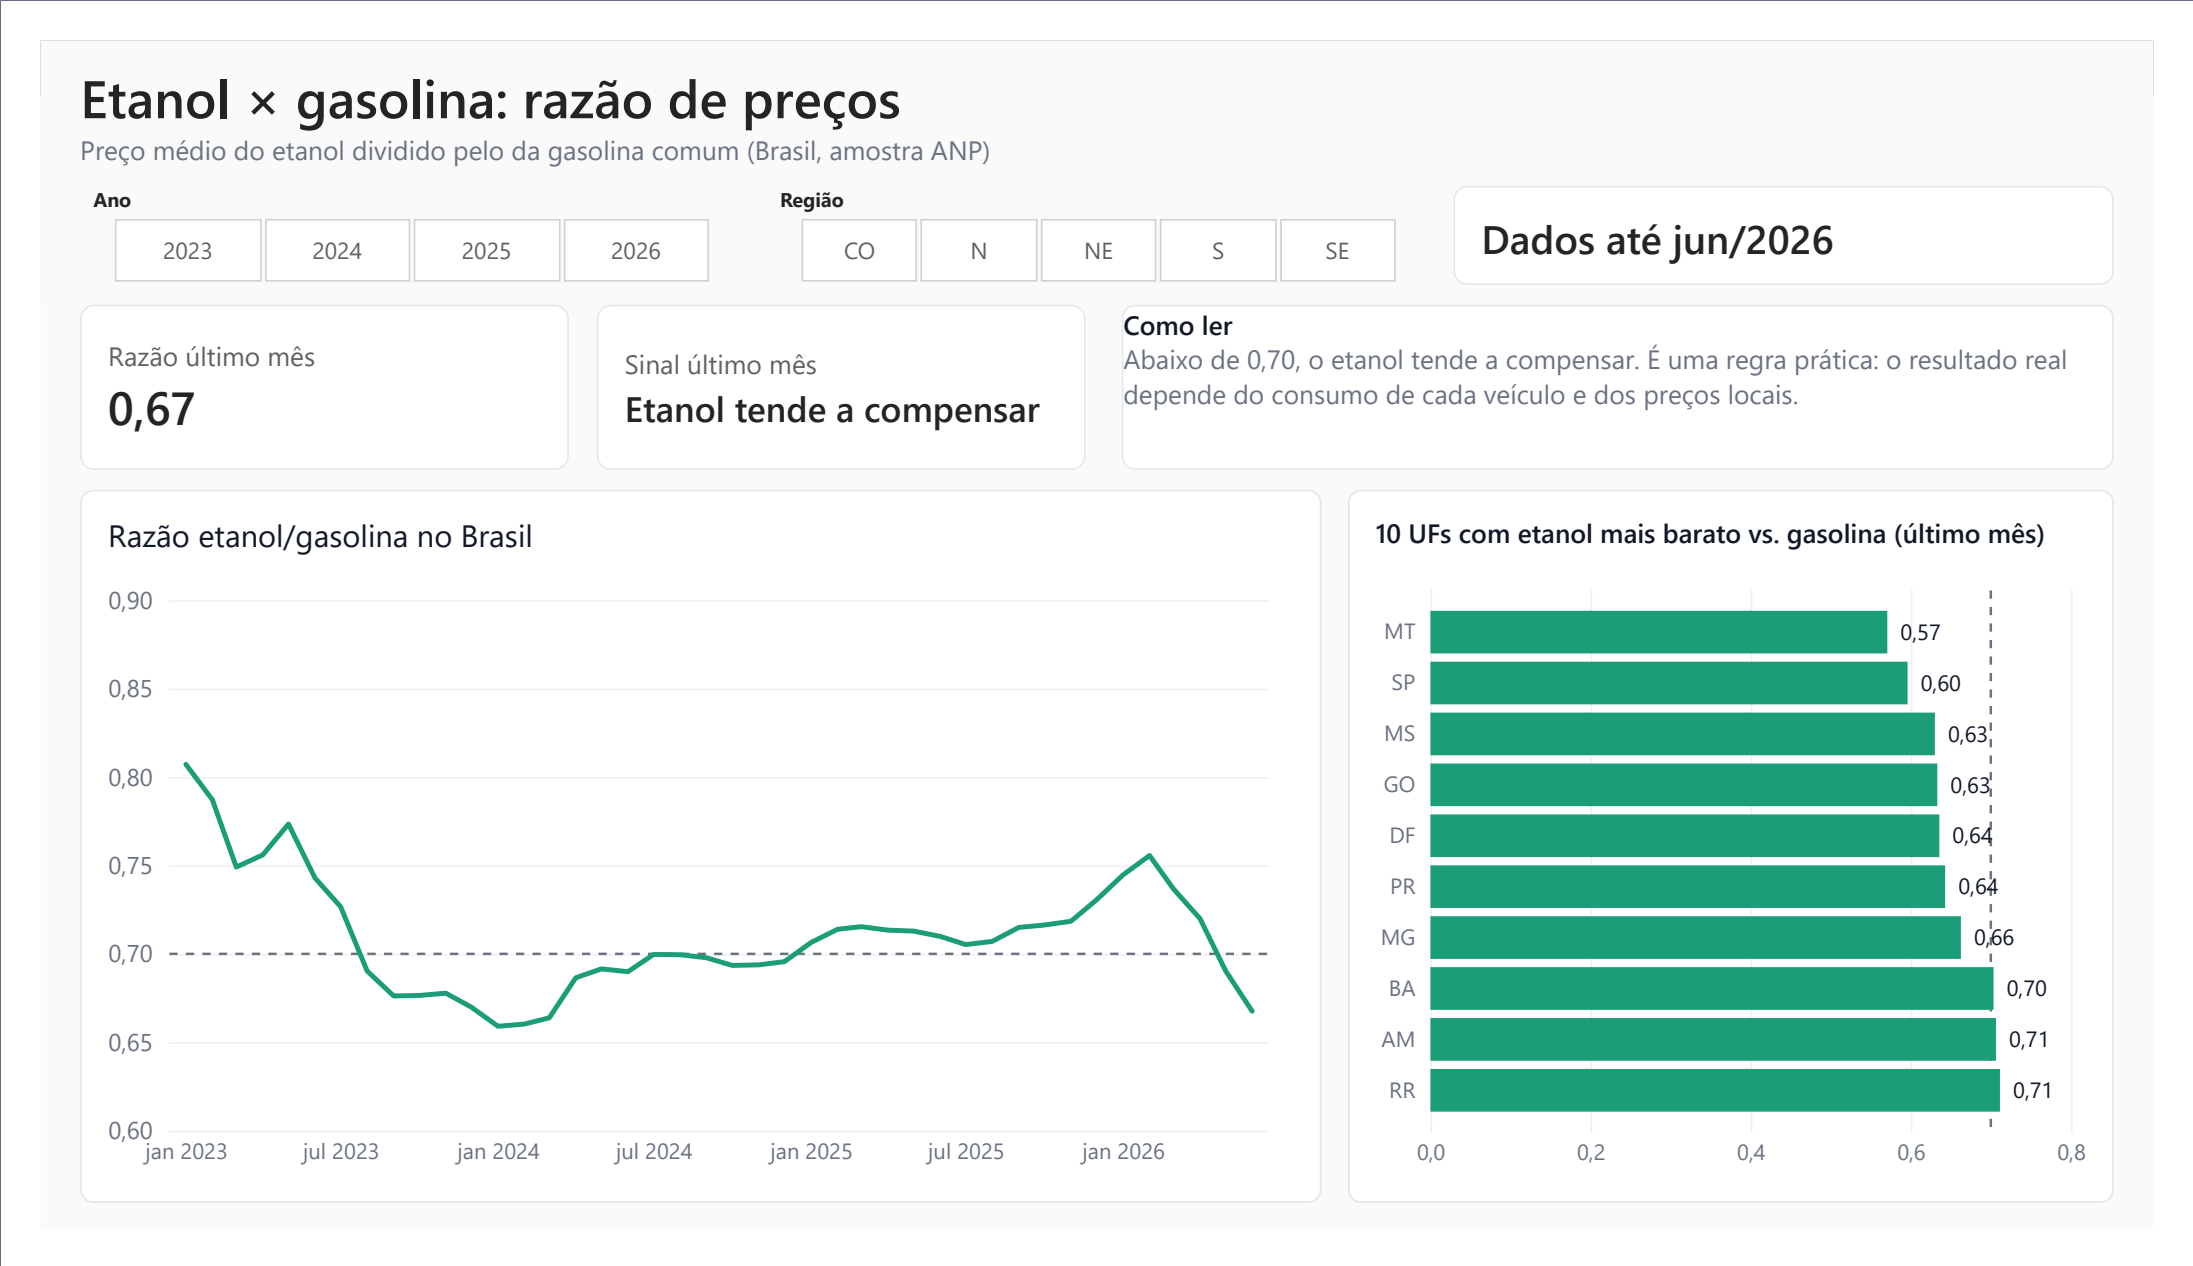

What the dashboard file says about the page in this screenshot:
{"tool":"powerbi","page":{"name":"Etanol × Gasolina","canvas":[1280,720],"ordinal":1},"visuals":[{"type":"textbox","box":[24.3,11.6,1231.9,76.4],"z":0},{"type":"slicer","fields":{"Values":["Calendario.Ano"]},"box":[24.3,88,400,60],"z":1000},{"type":"slicer","fields":{"Values":["uf_regiao.regiao"]},"box":[440,88,400,60],"z":2000},{"type":"lineChart","title":"Razão etanol/gasolina no Brasil","fields":{"Category":["Calendario.mes"],"Y":["_Medidas.Razão etanol/gasolina"]},"box":[24,272,752,432],"z":7000},{"type":"cardVisual","title":"Dados até","fields":{"Data":["_Medidas.Último mês"]},"box":[856,88,399.8,60.2],"z":8000},{"type":"textbox","box":[654.5,159.8,601.3,100.3],"z":8002},{"type":"barChart","title":"10 UFs com etanol mais barato vs. gasolina (último mês)","fields":{"Category":["uf_regiao.uf"],"Y":["_Medidas.Razão último mês"]},"box":[792,272,464,432],"z":8003},{"type":"cardVisual","title":"Gasolina · último mês","fields":{"Data":["_Medidas.Razão último mês"]},"box":[24,160,296,100],"z":8004},{"type":"cardVisual","title":"Gasolina · último mês","fields":{"Data":["_Medidas.Sinal último mês"]},"box":[336.5,160,296,100],"z":8005}]}

Visuals, with their boxes in screenshot pixels (x1, y1, x2, y2), scaled from the page's 1280x720 canvas onto the 2193x1266 screenshot:
textbox: Rect(42, 20, 2152, 155)
slicer - Calendario.Ano: Rect(42, 155, 727, 260)
slicer - uf_regiao.regiao: Rect(754, 155, 1439, 260)
"Razão etanol/gasolina no Brasil" lineChart: Rect(41, 478, 1330, 1238)
"Dados até" cardVisual: Rect(1467, 155, 2152, 261)
textbox: Rect(1121, 281, 2152, 457)
"10 UFs com etanol mais barato vs. gasolina (último mês)" barChart: Rect(1357, 478, 2152, 1238)
"Gasolina · último mês" cardVisual: Rect(41, 281, 548, 457)
"Gasolina · último mês" cardVisual: Rect(577, 281, 1084, 457)
